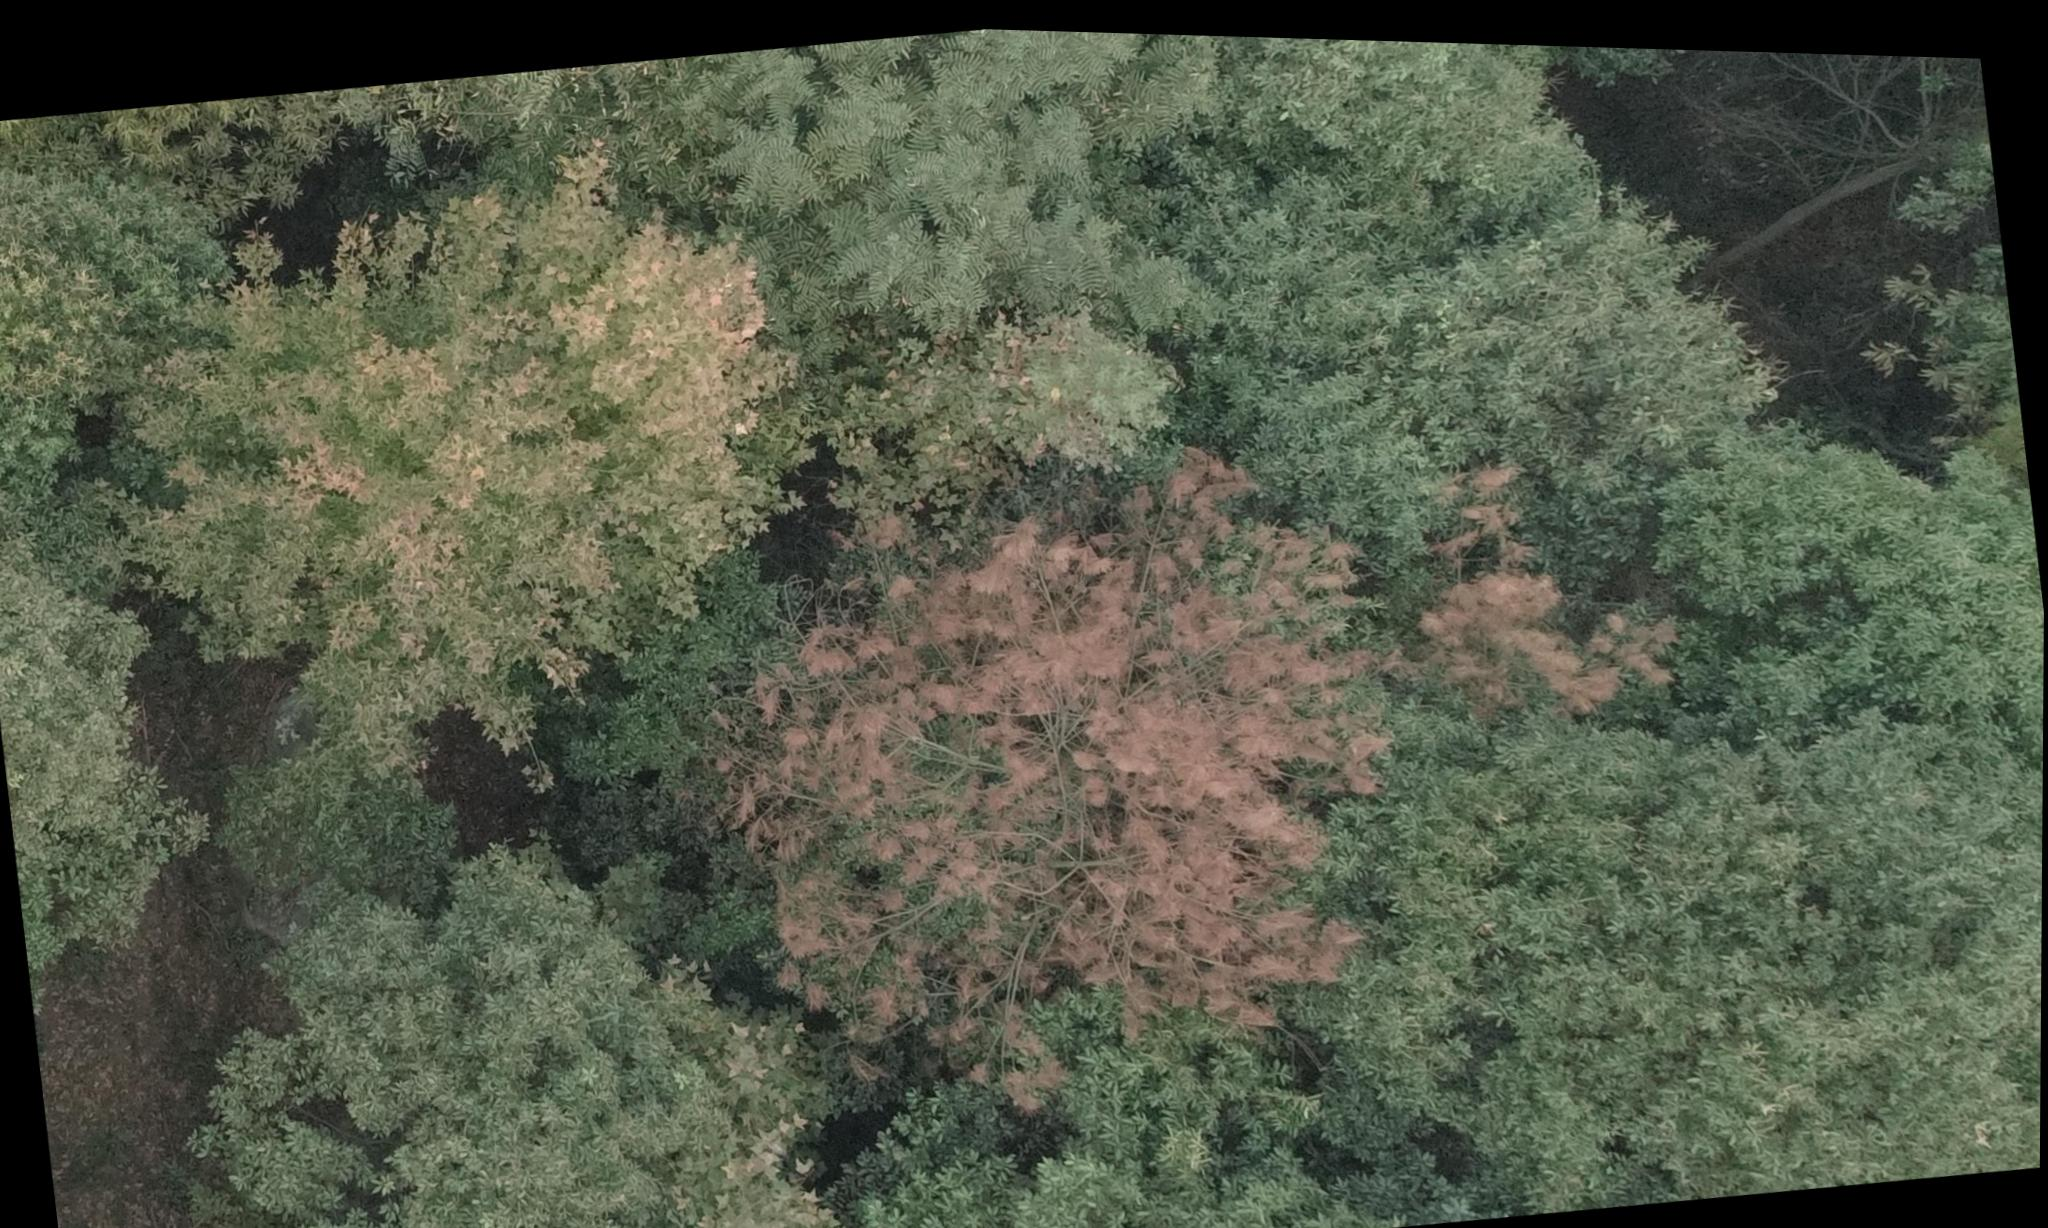heavy: (681, 440, 1419, 1146), (1406, 425, 1681, 734)
